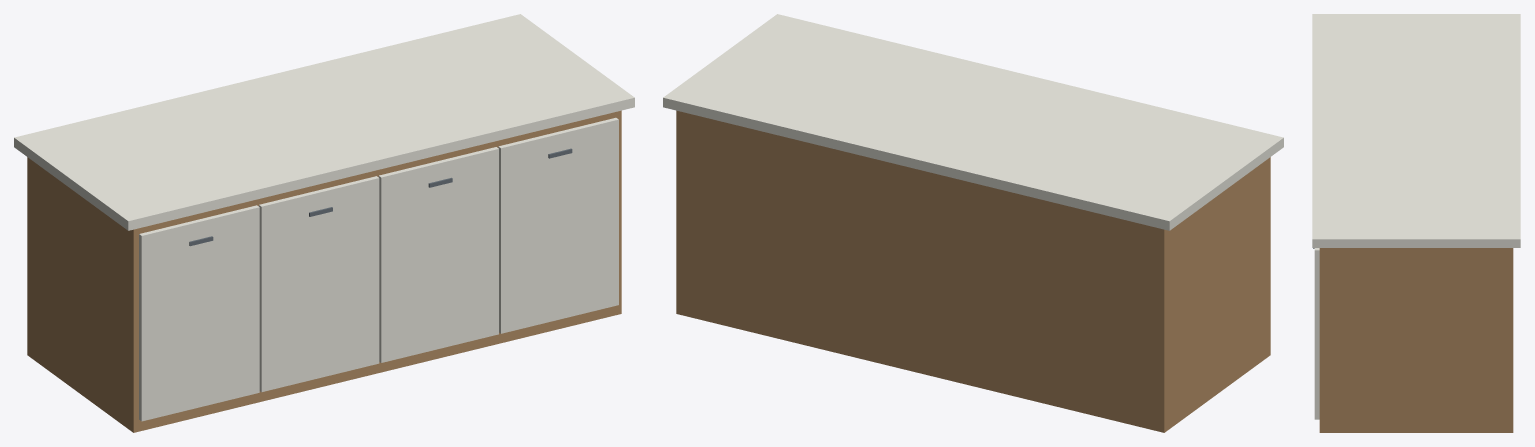
The picture shows the model from 3 angles, left to right: view 1: azimuth 30°, elevation 25°; view 2: azimuth 150°, elevation 25°; view 3: azimuth 270°, elevation 25°; orthographic projection. The views are drawn at different scales.
Parts seen in each view (by area): view 1: Worktop, CabinetBody, Door_0, Door_1, Door_2, Door_3; view 2: CabinetBody, Worktop; view 3: Worktop, CabinetBody, Door_3.
Part boxes in pixels (bbox=[...]): Worktop: bbox=[14, 14, 634, 230]; CabinetBody: bbox=[27, 110, 621, 432]; Door_0: bbox=[139, 205, 259, 421]; Door_1: bbox=[259, 176, 379, 392]; Door_2: bbox=[378, 147, 498, 362]; Door_3: bbox=[498, 117, 618, 333]; CabinetBody: bbox=[676, 110, 1270, 432]; Worktop: bbox=[663, 14, 1283, 230]; Worktop: bbox=[1312, 14, 1520, 247]; CabinetBody: bbox=[1319, 248, 1513, 432]; Door_3: bbox=[1314, 248, 1319, 419].
Size of the model in its own units: 2.2 by 0.9 by 0.86.
